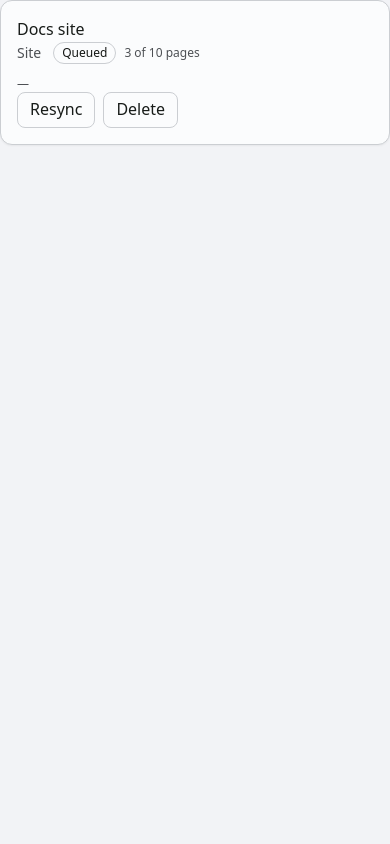
Test: sources table › lets an admin resync and delete, with a confirmation
Click the button "Delete" at (141,110), box [103,92,178,128]
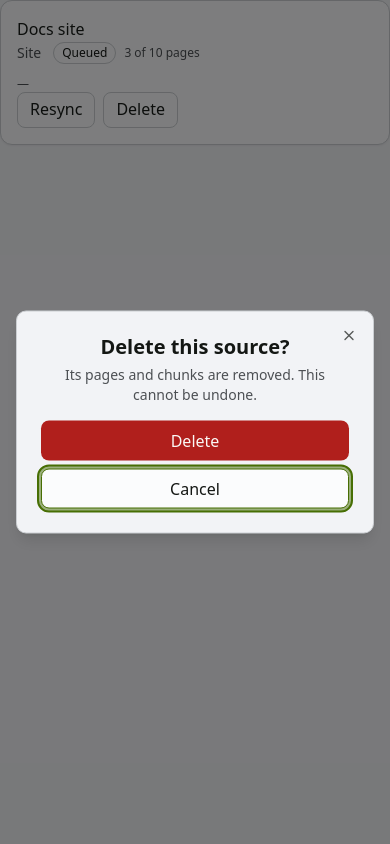
Result: the heading "Delete this source?" is shown at [100,332,290,360]
